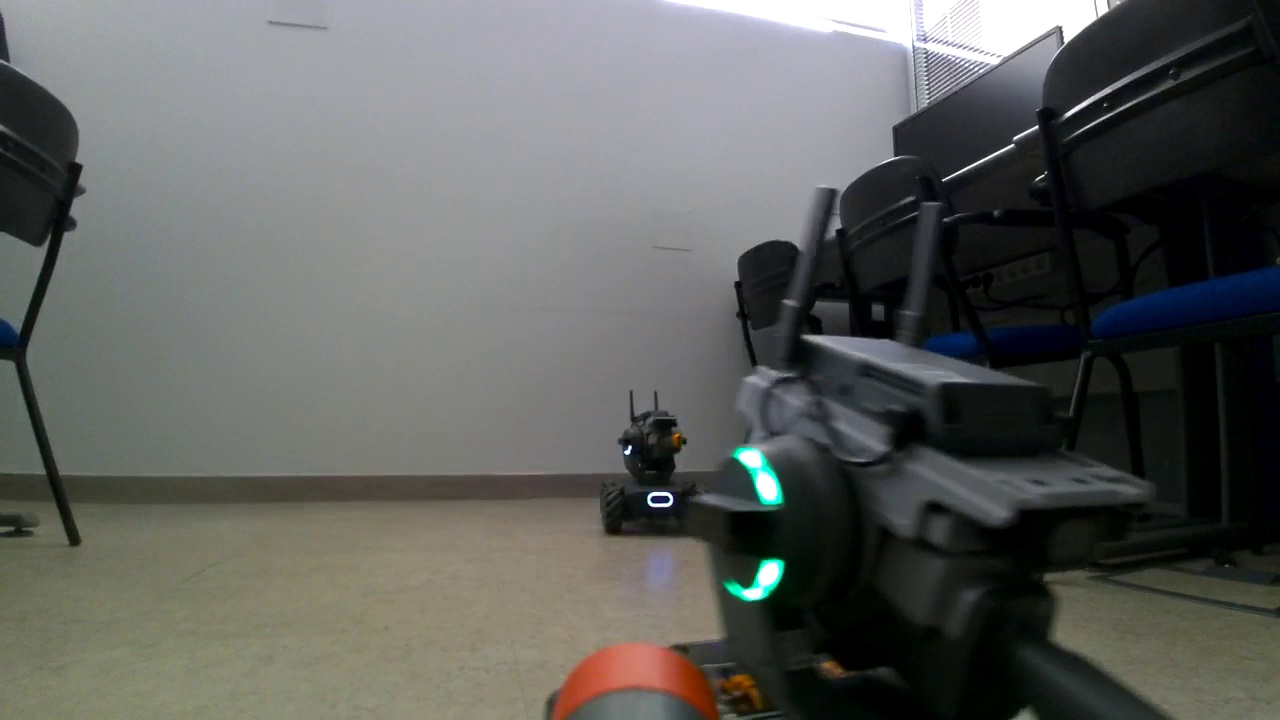robot: (634, 189, 1194, 720), (602, 389, 706, 530)
